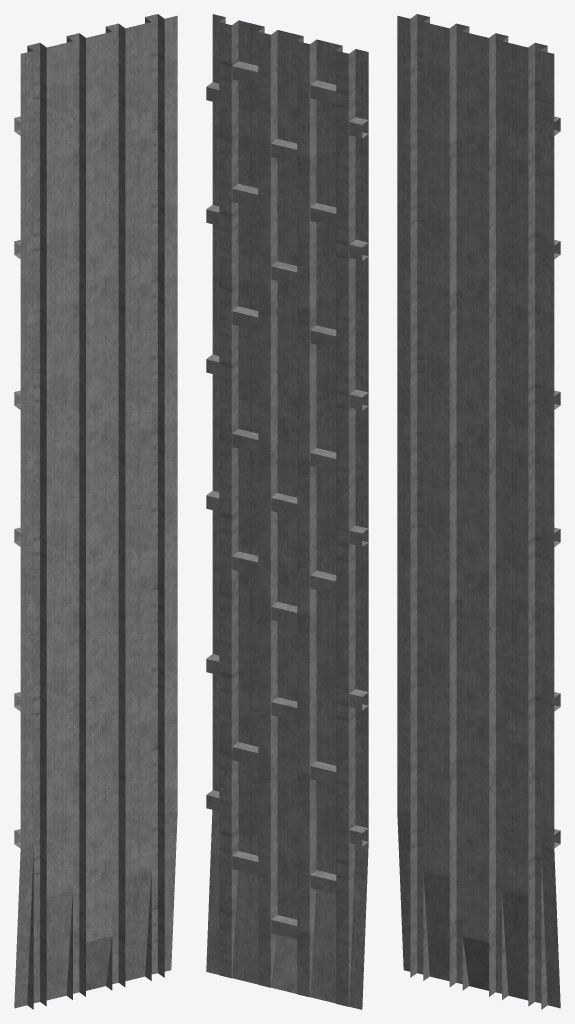
Rendered from SM_Wall_35.fbx.
The picture shows the model from 3 angles, left to right: view 1: azimuth 30°, elevation 25°; view 2: azimuth 150°, elevation 25°; view 3: azimuth 330°, elevation 25°; orthographic projection.
Visible parts, largest first — view 1: SM_Wall_46; view 2: SM_Wall_46; view 3: SM_Wall_46.
Part boxes in pixels (left/top/right/bottom): SM_Wall_46: left=14, top=14, right=177, bottom=1009; SM_Wall_46: left=206, top=14, right=368, bottom=1009; SM_Wall_46: left=397, top=14, right=560, bottom=1009.
Bounding box in the file's own units: 600 × 3500 × 44.29.
